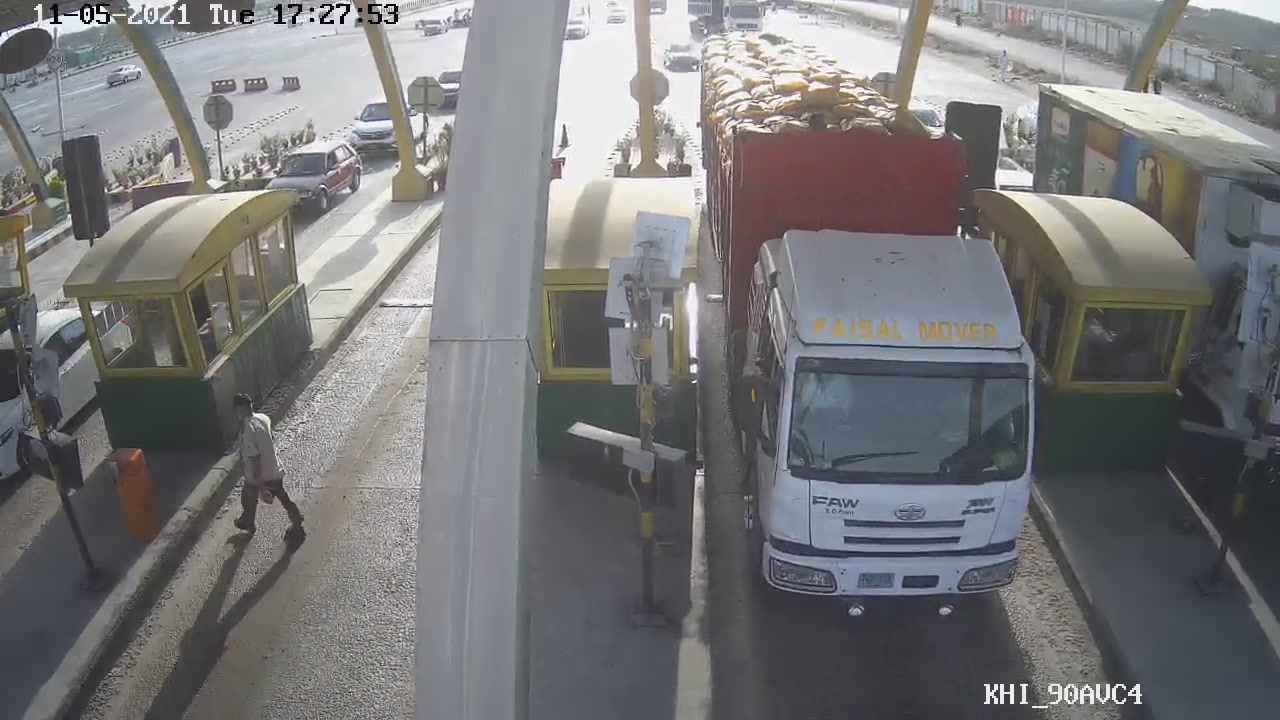F6: (694, 24, 1034, 627)
